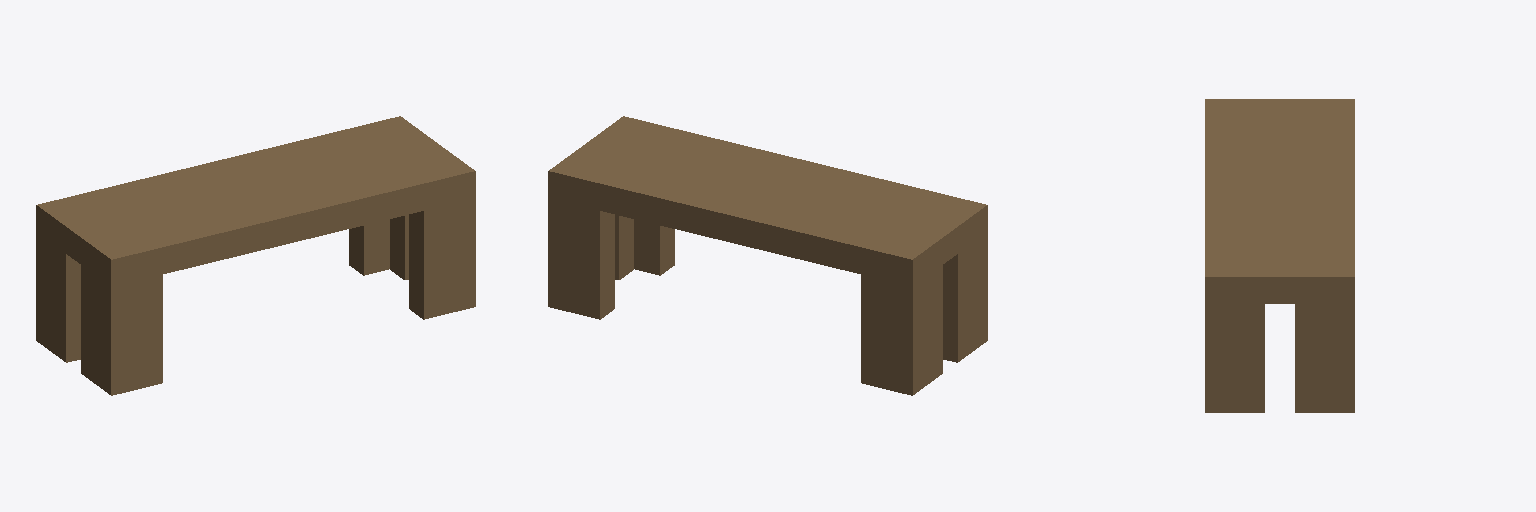
3 renders of one model, left to right at view 1: azimuth 30°, elevation 25°; view 2: azimuth 150°, elevation 25°; view 3: azimuth 270°, elevation 25°, orthographic.
Visible parts, largest first — view 1: Bench2; view 2: Bench2; view 3: Bench2.
Part boxes in pixels (left/top/right/bottom): Bench2: left=36, top=116, right=475, bottom=395; Bench2: left=548, top=116, right=987, bottom=395; Bench2: left=1205, top=99, right=1354, bottom=412.
Bounding box in the file's own units: 14 × 5 × 5.
Materials: 1 (1 with a texture image).